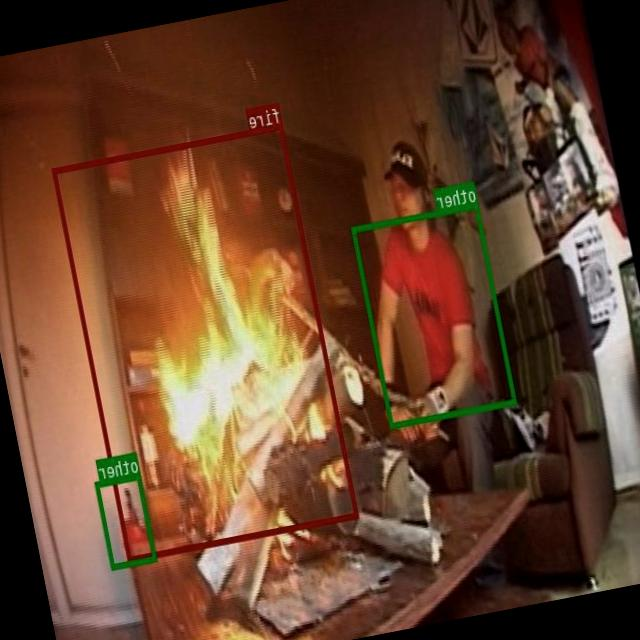fire: (52, 123, 359, 562)
